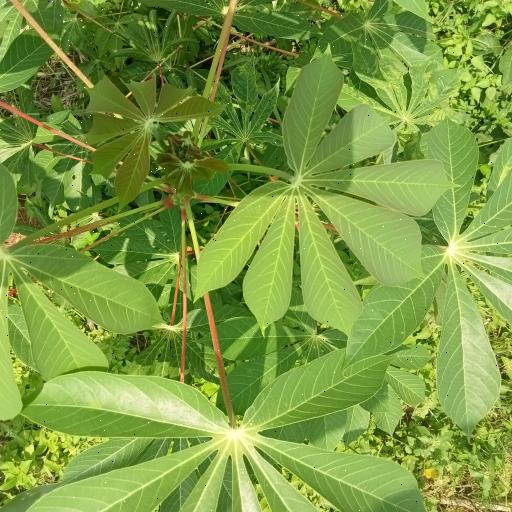Cassava_Healthy: (52, 348, 439, 512), (218, 74, 446, 320), (6, 163, 146, 398)
